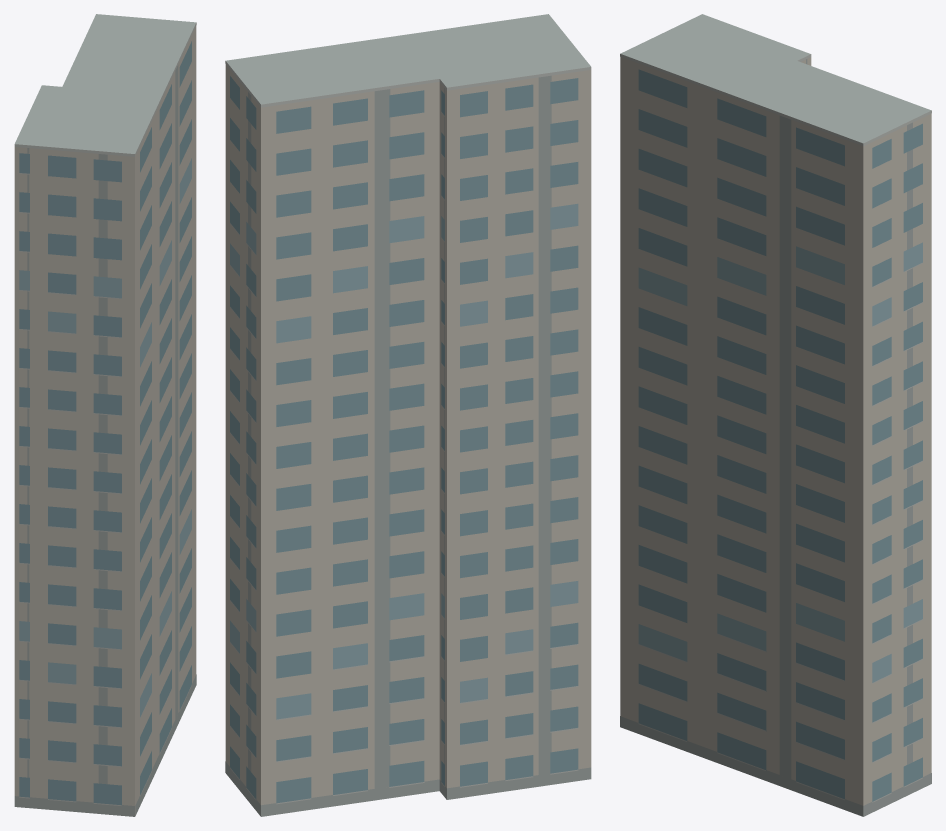
The model's file is residential-40288df3-21e0-4c51-8647-9cd1a5d61488.glb.
3 views of the same model, side by side, from view 1: azimuth 30°, elevation 25°; view 2: azimuth 150°, elevation 25°; view 3: azimuth 270°, elevation 25° (orthographic). The views are drawn at different scales.
Visible parts, largest first — view 1: residential-40288df3-21e0-4c51-8647-9cd1a5d61488.tmp; view 2: residential-40288df3-21e0-4c51-8647-9cd1a5d61488.tmp; view 3: residential-40288df3-21e0-4c51-8647-9cd1a5d61488.tmp.
Boxes of the visible parts, bbox=[...] form: residential-40288df3-21e0-4c51-8647-9cd1a5d61488.tmp: bbox=[14, 14, 196, 816]; residential-40288df3-21e0-4c51-8647-9cd1a5d61488.tmp: bbox=[225, 14, 591, 816]; residential-40288df3-21e0-4c51-8647-9cd1a5d61488.tmp: bbox=[620, 14, 931, 816].
Bounding box in the file's own units: 23.51 × 57 × 23.91.
